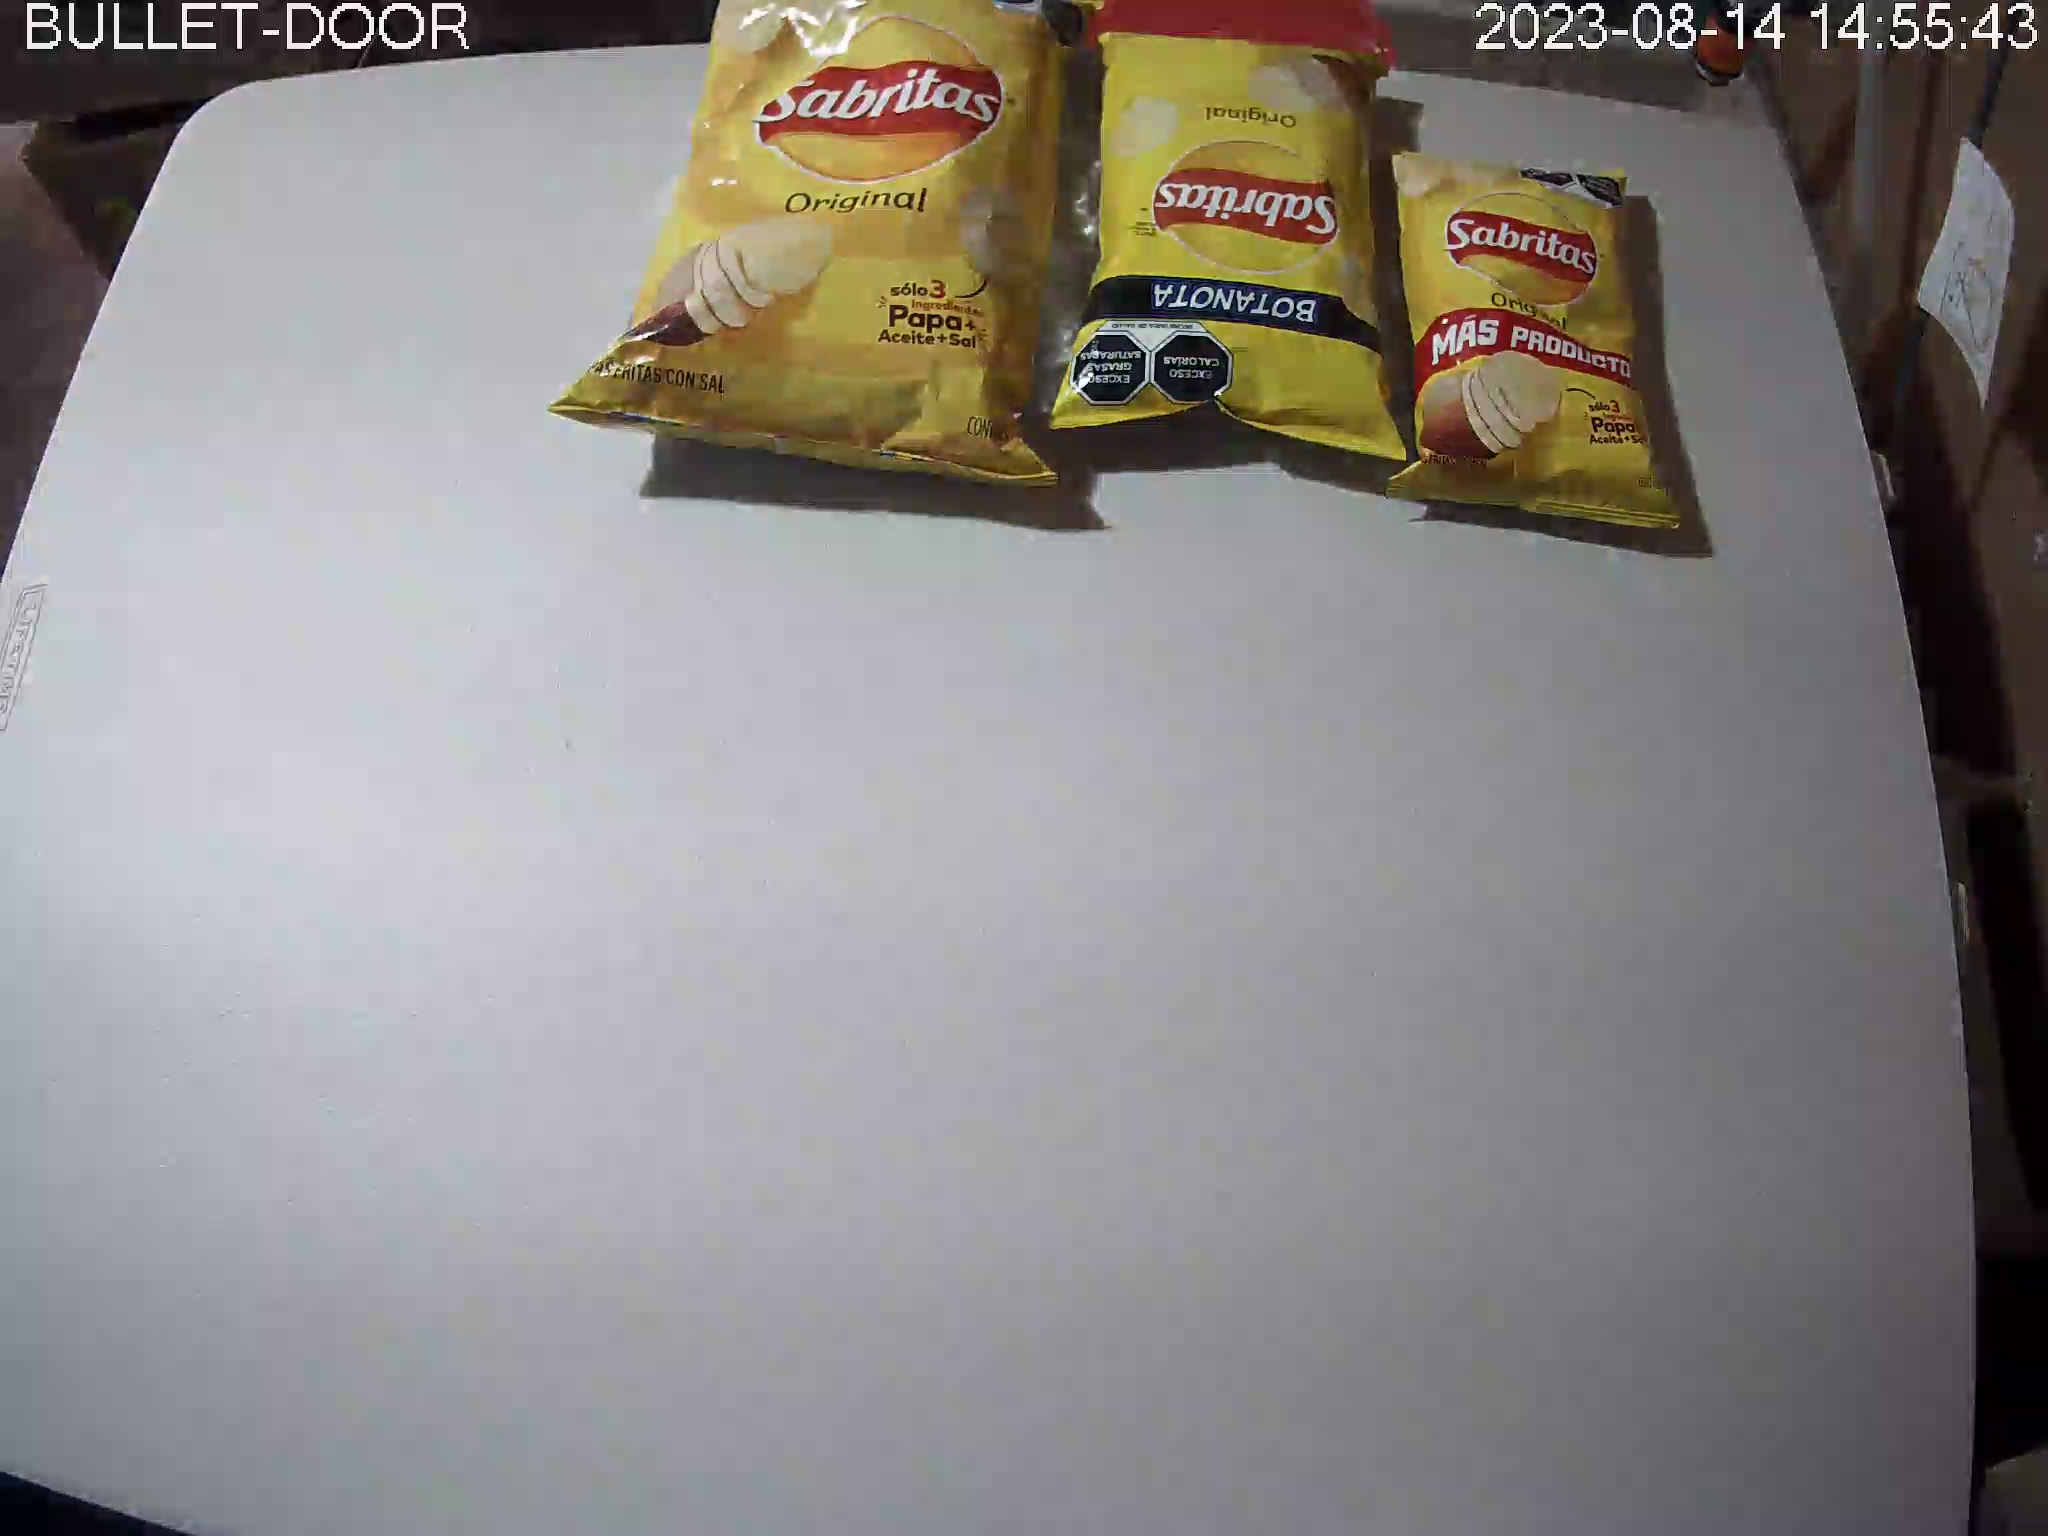Sabritas_160_F: (545, 2, 1109, 486)
Sabritas_45_F: (1372, 140, 1684, 532)
Sabritas_64_F: (1051, 32, 1413, 470)
